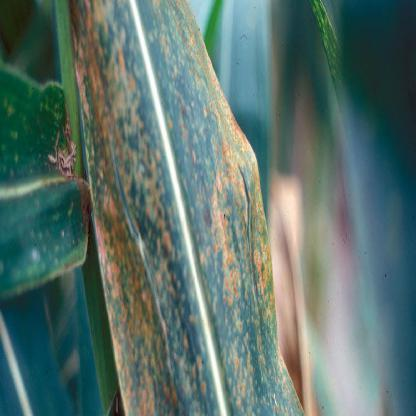corn rust leaf: (68, 2, 302, 415)
